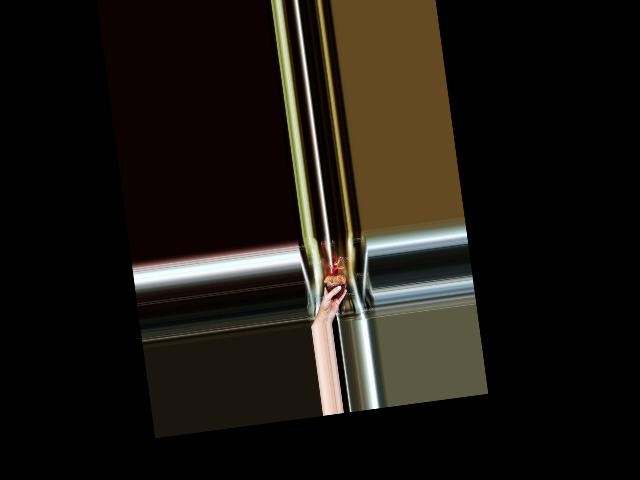beet: (321, 256, 348, 299)
